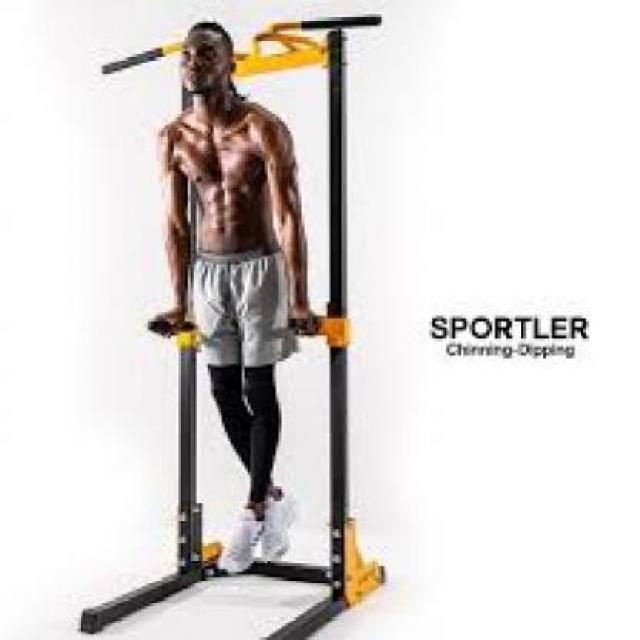chinning dipping: (74, 14, 381, 640)
